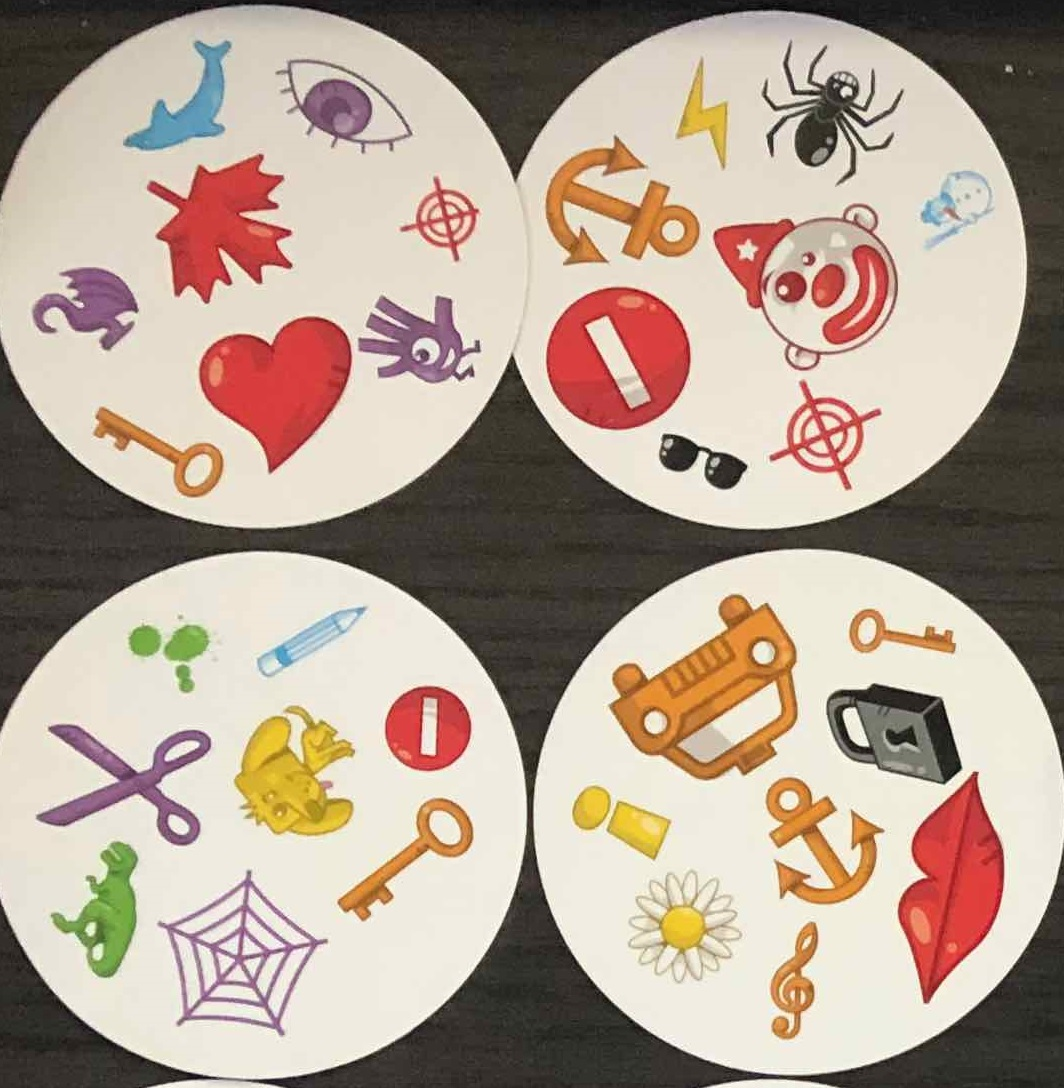ancre: (544, 141, 703, 269), (751, 770, 876, 908)
araignee: (754, 37, 901, 179)
bonhomme_neige: (911, 158, 1002, 254)
bouche: (885, 771, 1023, 998)
cadenas: (819, 678, 964, 785)
chien: (226, 700, 372, 847)
cible: (766, 376, 886, 494), (394, 174, 491, 267)
ciseau: (41, 704, 215, 849)
cle: (332, 793, 480, 932), (82, 393, 230, 497), (840, 598, 964, 663)
clown: (709, 200, 908, 361)
coeur: (197, 313, 355, 478)
crayon: (245, 597, 379, 681)
dauphin: (115, 33, 243, 168)
dinosore: (49, 837, 156, 981)
dooble: (357, 285, 492, 391)
dragon: (26, 268, 151, 361)
eclair: (669, 64, 738, 172)
feuille: (141, 152, 296, 302)
fleur: (622, 863, 750, 985)
lunette: (650, 429, 754, 495)
note: (764, 915, 829, 1044)
oeuil: (274, 47, 418, 159)
point_exclamation: (561, 776, 681, 868)
sens_interdit: (540, 282, 694, 435), (372, 676, 479, 783)
tache: (123, 605, 217, 699)
toile: (159, 868, 332, 1039)
voiture: (601, 583, 799, 778)
